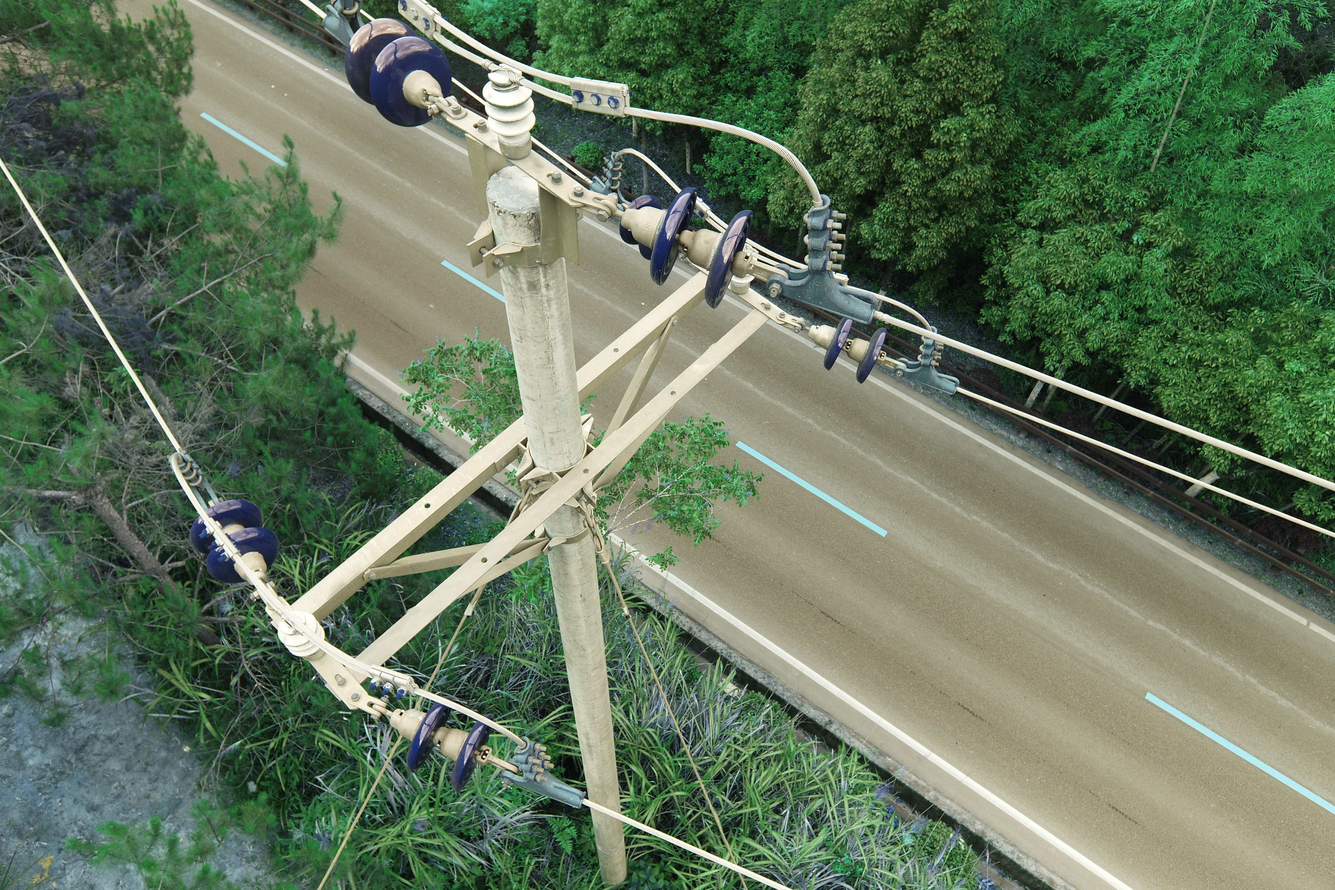severe_soiling_no_discharge_whole: (479, 62, 539, 160)
